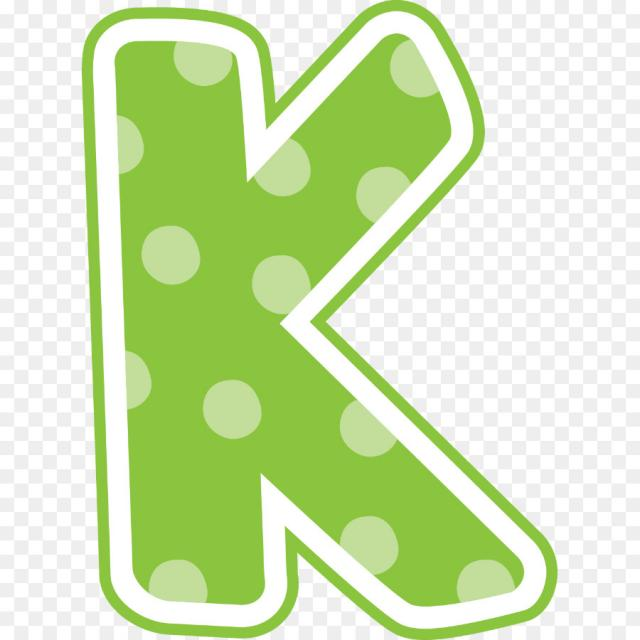K: (23, 3, 597, 640)
